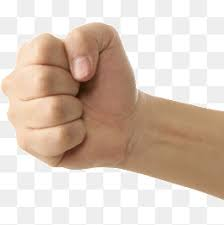fist: (10, 33, 139, 178)
